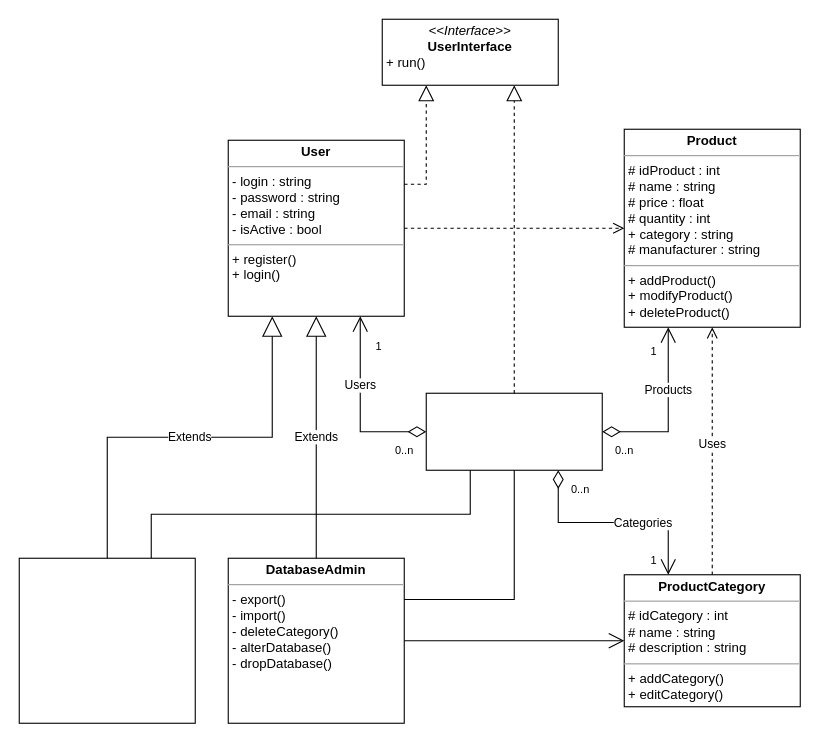
This 820x743 diagram has some shape labels left out. Here are the shapes that lost their labels. From the top down, the centre of each, then its label:
(x=513, y=431): Database + products : vector + users : vector
(x=106, y=640): UserAdmin - addUser() - blockUser() - deleteUser() - modifyUser()
